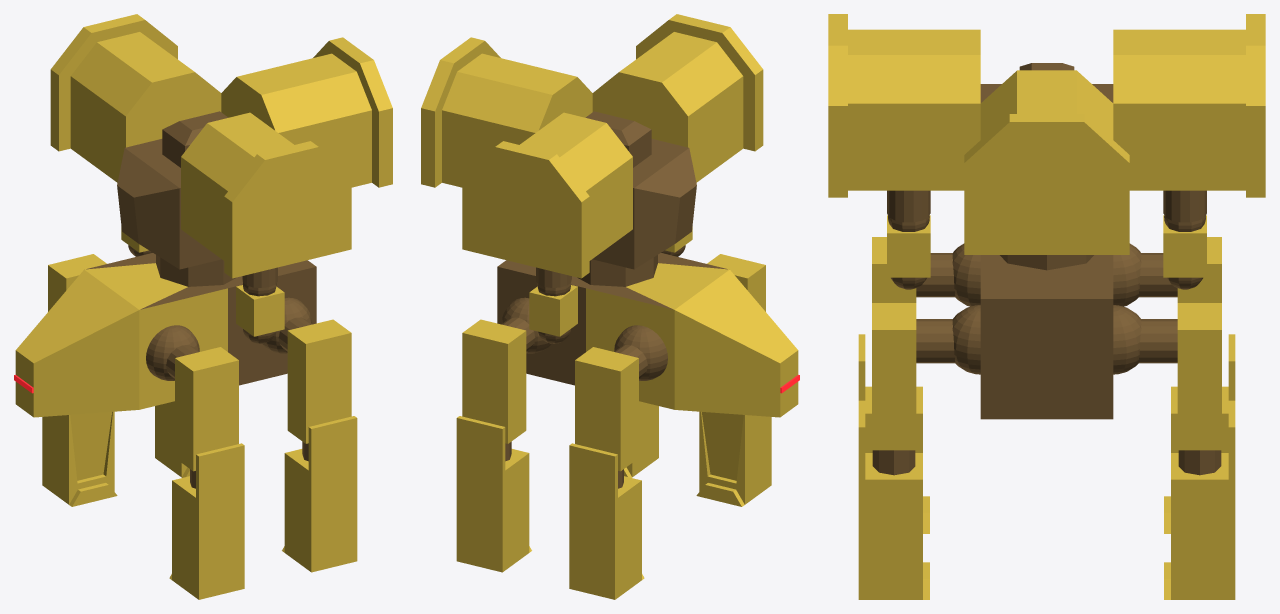
Rendered from Caminante implacable (bigRobot).fbx.
3 views of the same model, side by side, from view 1: azimuth 30°, elevation 25°; view 2: azimuth 150°, elevation 25°; view 3: azimuth 270°, elevation 25° (orthographic). The views are drawn at different scales.
Visible parts, largest first — view 1: Caminante Implacable; view 2: Caminante Implacable; view 3: Caminante Implacable.
Boxes of the visible parts, x1,y1,x2,y2 form: Caminante Implacable: [14, 14, 392, 599]; Caminante Implacable: [421, 14, 799, 599]; Caminante Implacable: [828, 14, 1265, 599].
Size of the model in its own units: 702 by 872 by 659.
